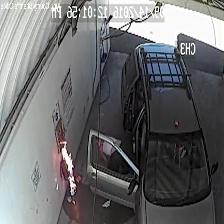fire: (57, 139, 82, 203)
